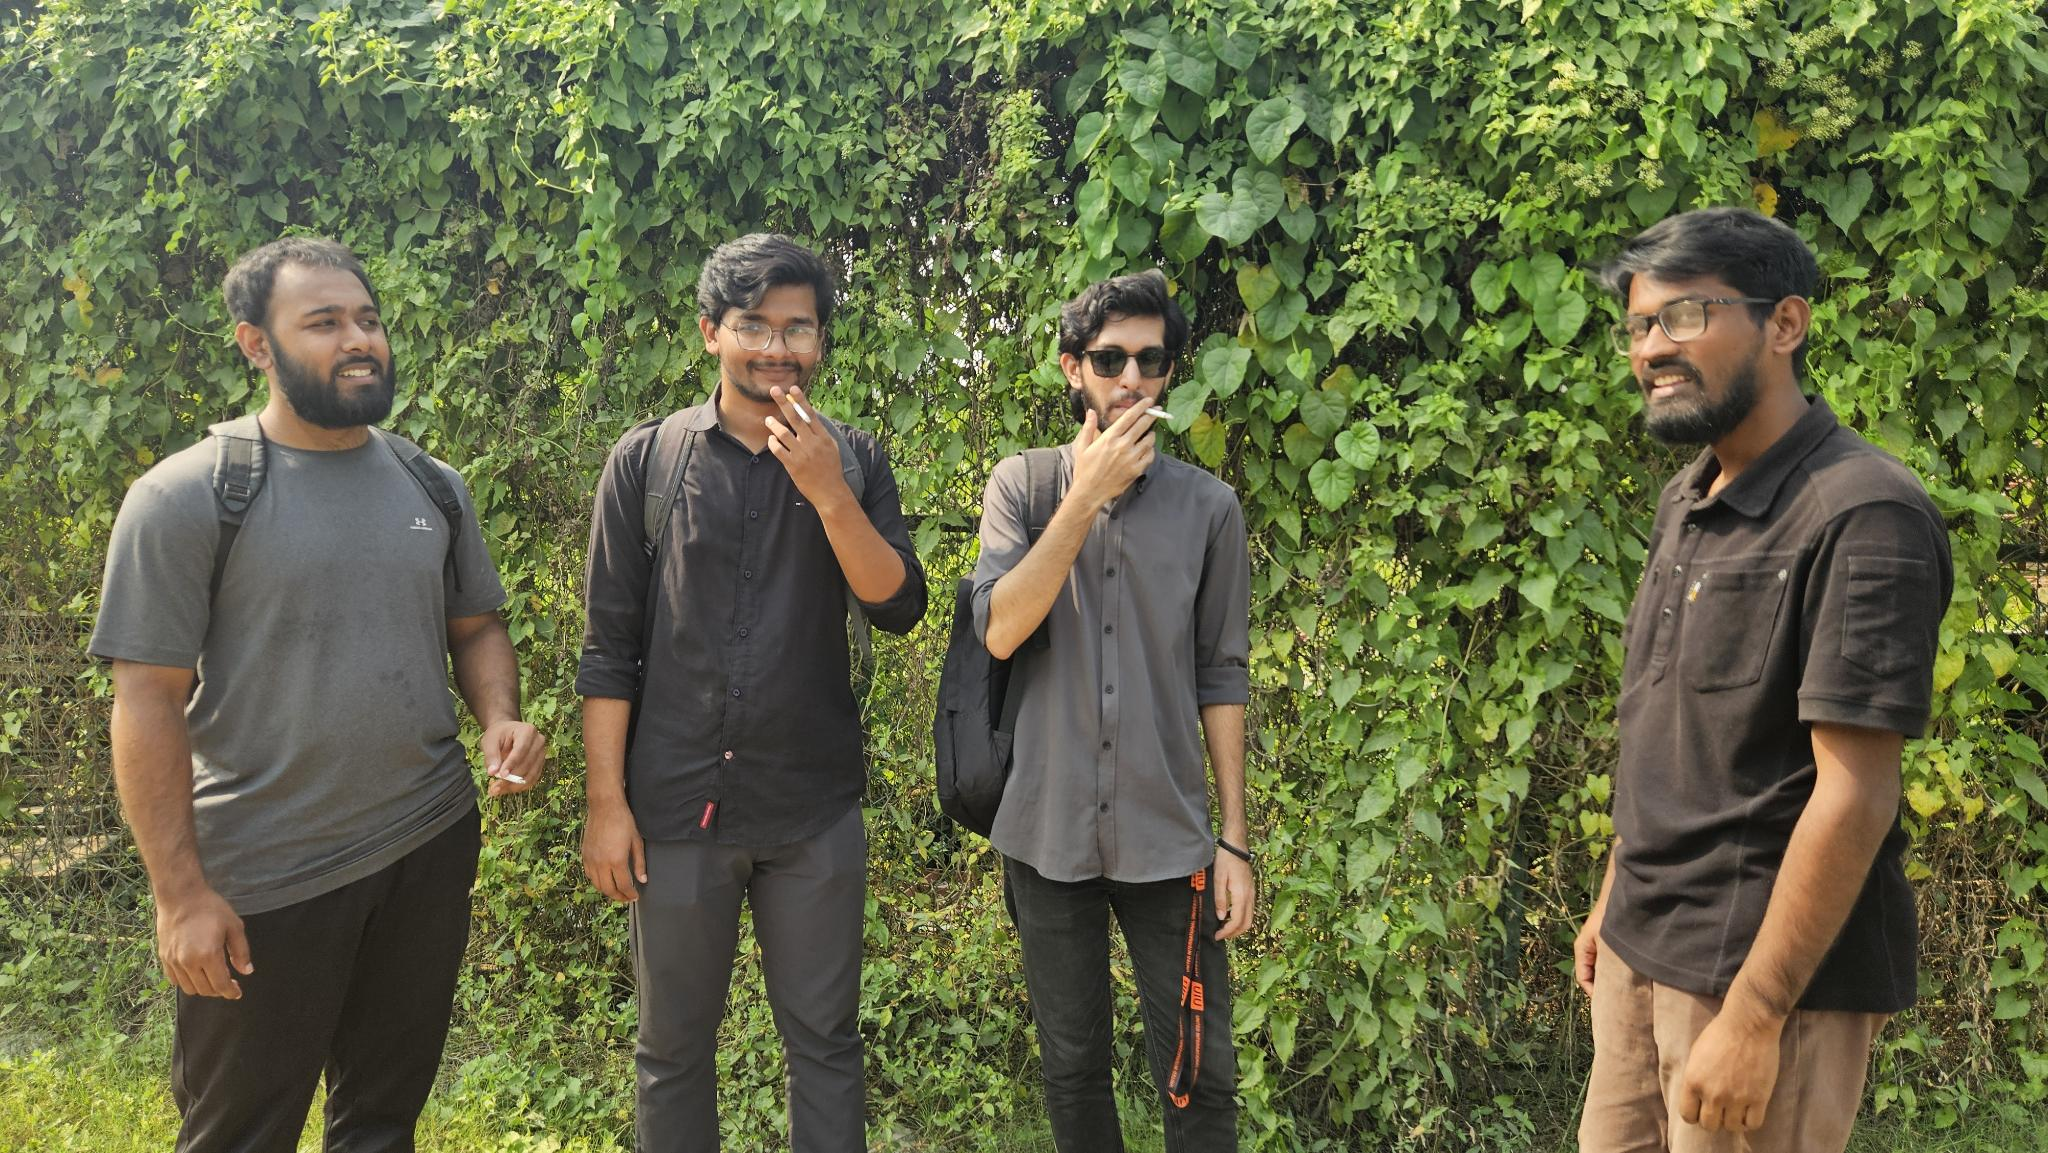cigarette: (783, 392, 812, 425), (492, 771, 527, 786), (1145, 406, 1176, 420)
nonSmoker: (1574, 207, 1954, 1153)
smoker: (86, 235, 547, 1153), (574, 233, 927, 1153), (933, 269, 1256, 1153)
